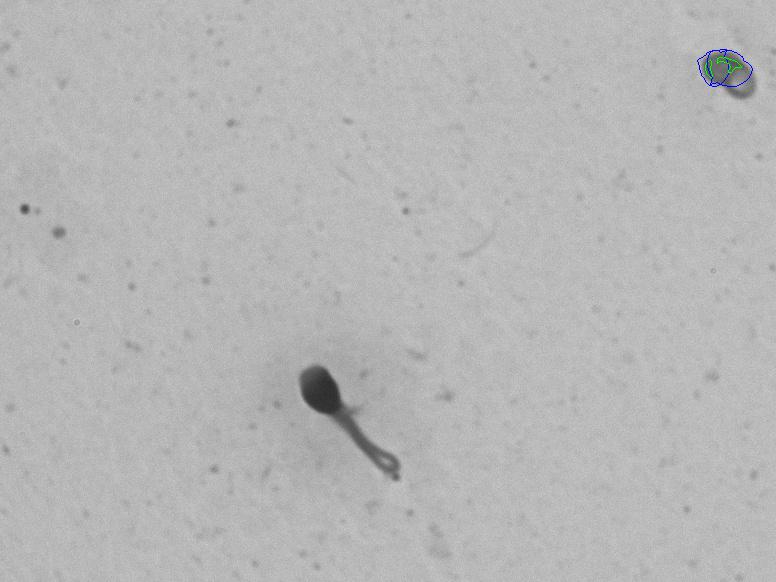Abnormal: (209, 320, 438, 479)
